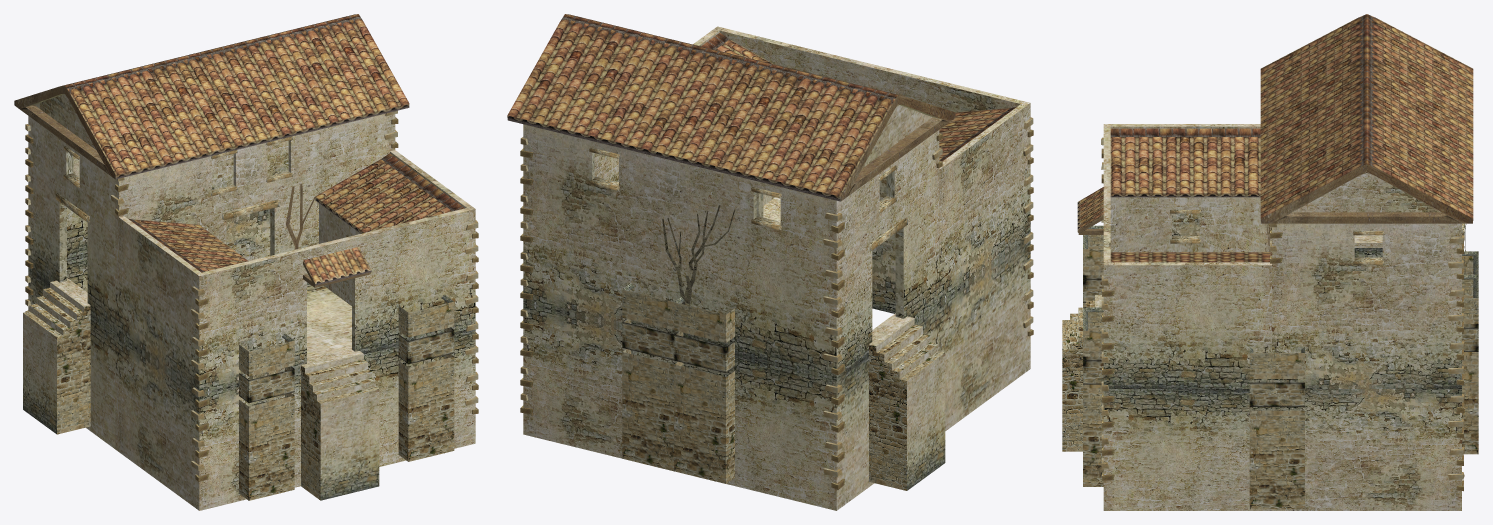
Rendered from hele_house_e.dae.
3 renders of one model, left to right at view 1: azimuth 30°, elevation 25°; view 2: azimuth 150°, elevation 25°; view 3: azimuth 270°, elevation 25°, orthographic. The views are drawn at different scales.
Visible parts, largest first — view 1: hele_house_e; view 2: hele_house_e; view 3: hele_house_e.
Boxes of the visible parts, x1,y1,x2,y2 form: hele_house_e: (14,14,478,510); hele_house_e: (507,14,1033,510); hele_house_e: (1062,14,1478,510).
Size of the model in its own units: 14.49 by 15.48 by 14.42.
